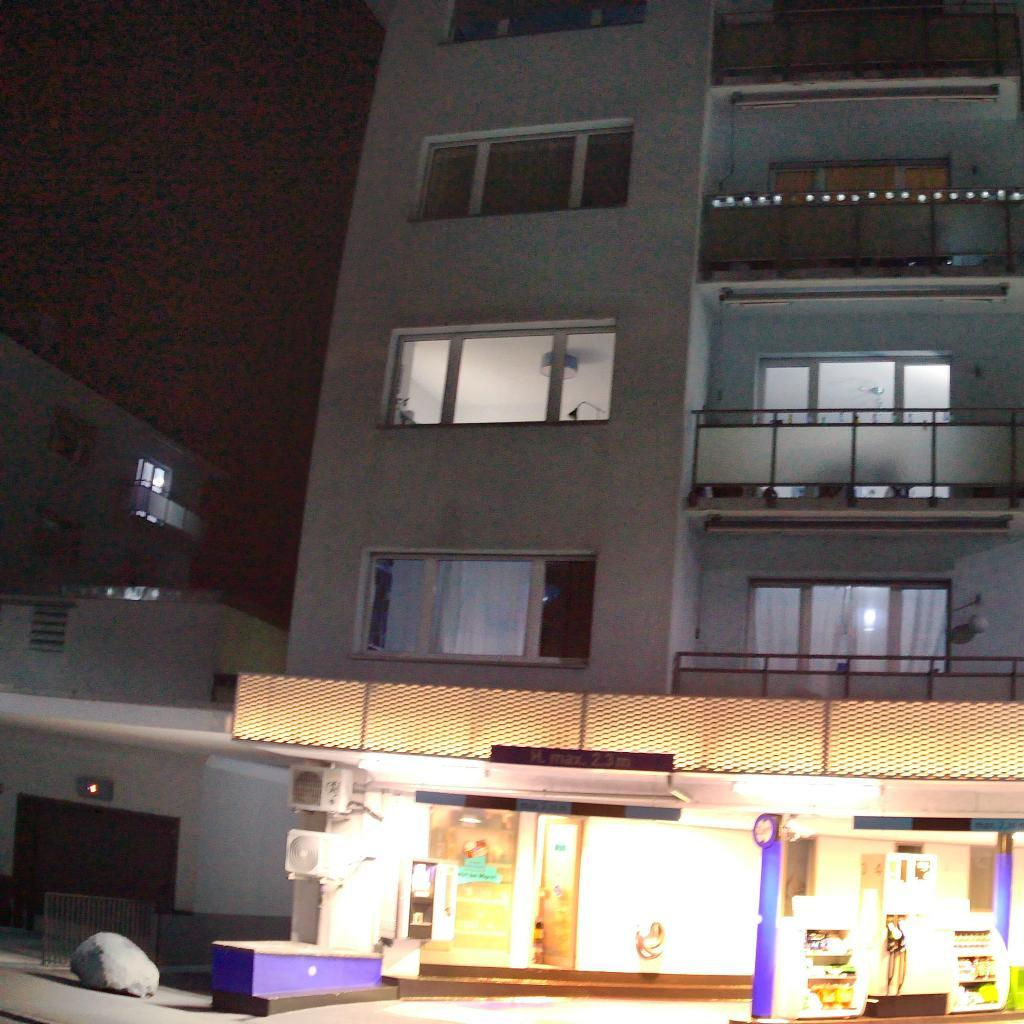balcony-fence: (688, 408, 1024, 508), (697, 186, 1024, 282), (706, 1, 1024, 90), (669, 651, 1024, 702), (121, 479, 204, 544)
facade: (0, 3, 1024, 974)
shop: (381, 782, 1023, 1024)
street: (0, 954, 752, 1024), (979, 1019, 1024, 1024)
window: (758, 356, 950, 498), (361, 552, 596, 658), (384, 324, 616, 425), (421, 125, 634, 220), (770, 163, 953, 268), (747, 581, 948, 672), (452, 0, 645, 43), (30, 503, 84, 576), (45, 403, 98, 473), (132, 459, 165, 524)
